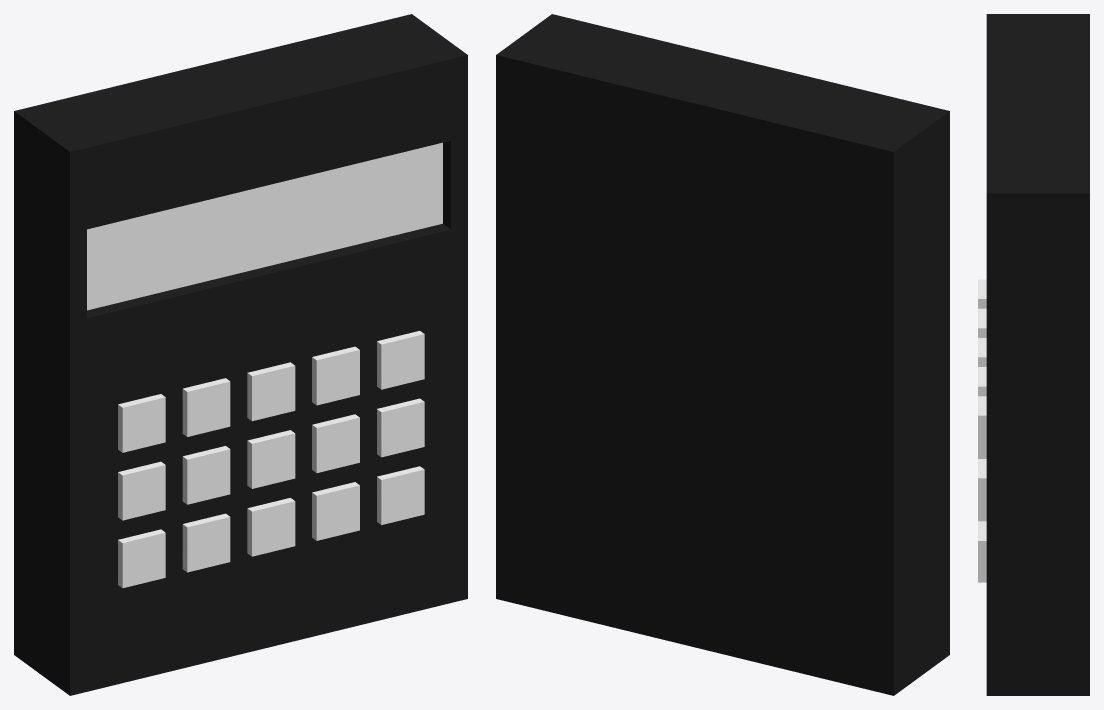
Rendered from Keypad.fbx.
3 views of the same model, side by side, from view 1: azimuth 30°, elevation 25°; view 2: azimuth 150°, elevation 25°; view 3: azimuth 270°, elevation 25° (orthographic). The views are drawn at different scales.
Parts seen in each view (by area): view 1: Keypad; view 2: Keypad; view 3: Keypad.
Boxes of the visible parts, x1=… form: Keypad: x1=14, y1=14, x2=467, y2=695; Keypad: x1=496, y1=14, x2=949, y2=695; Keypad: x1=978, y1=14, x2=1089, y2=695.
Bounding box in the file's own units: 18.58 × 24.28 × 4.9.
